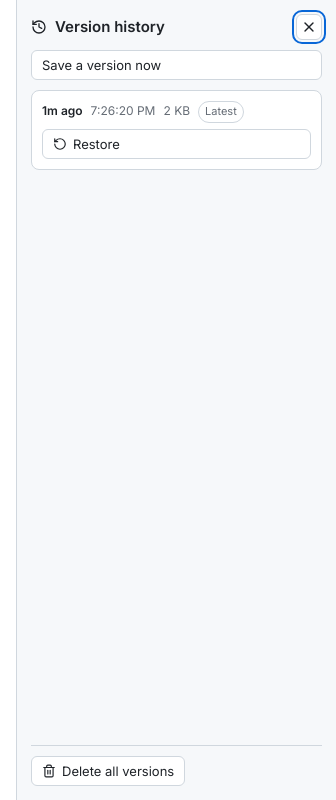
Test: VersionHistoryPanel (VERSIONS-1) › lets the user back out of deleting
Click the button "Delete all versions".
click(108, 771)  # box [31,756,185,786]
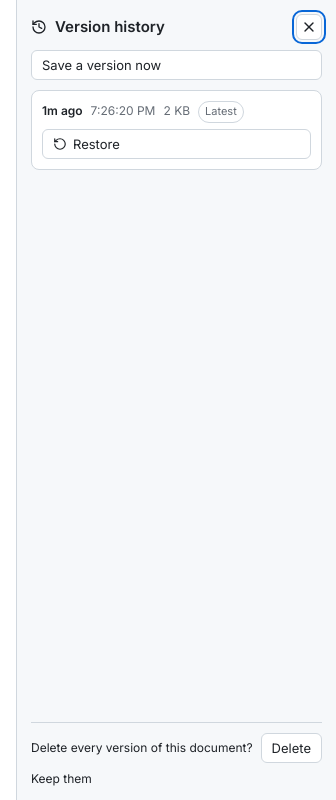
Click the button "Keep them".
click(61, 778)  # box [31,771,92,786]
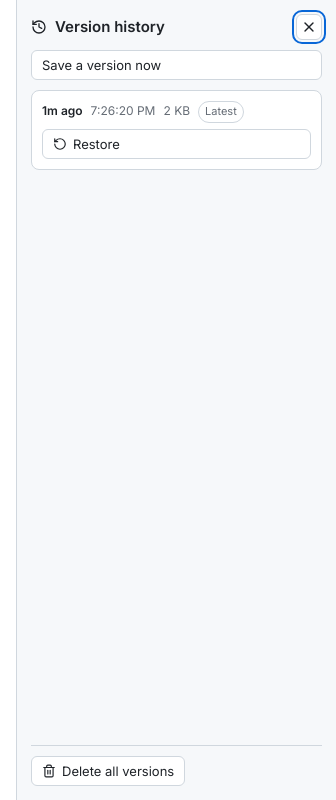
Result: the button "Delete all versions" is shown at [31,756,185,786]
